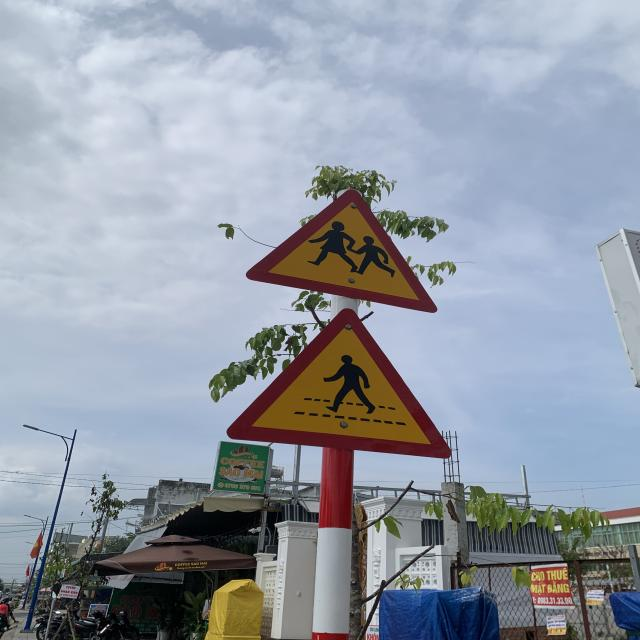Duong_Nguoi_Di_Bo_Sang_Ngang: (226, 307, 452, 459)
Vong_Xuyen: (245, 188, 439, 314)
